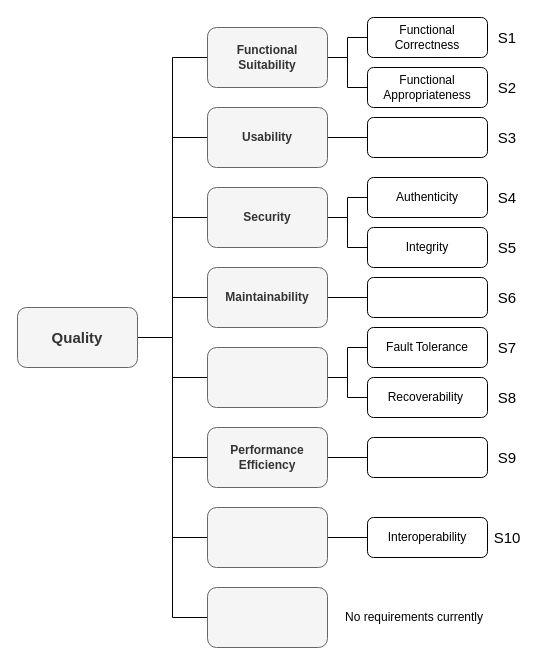
The diagram is 545 pixels wide and 665 high, and some of its shapes have lost their labels. Each missing label, with the centre of its shape:
Analysability: (427,297)
Capacity: (427,457)
Compatibility: (267,537)
Learnability: (427,137)
Portability: (267,617)
Reliability: (267,377)
